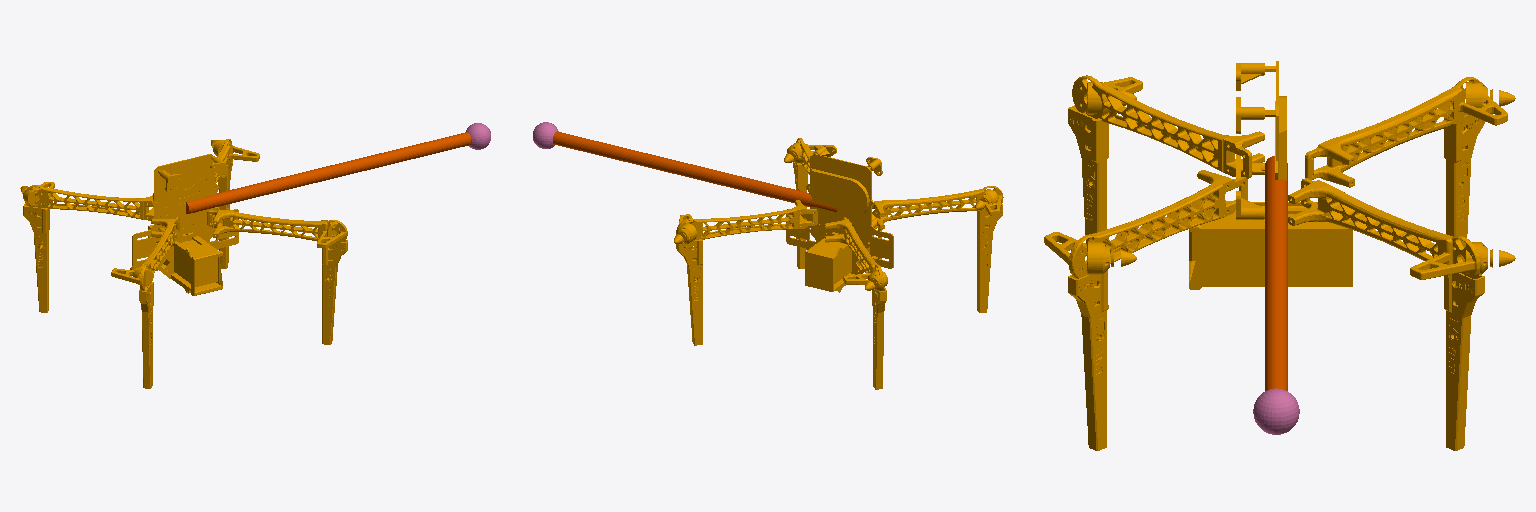
The robot description file, URDF, robot "f450":
<?xml version="1.0" ?>
<robot name="f450">
  <joint name="prop_0_joint" type="continuous">
    <parent link="base_link"/>
    <child link="prop_0_link"/>
    <origin xyz="0.16263 -0.16263 0.0115" rpy="0 0 0"/>
    <axis xyz="0 0 1"/>
    <limit effort="523.6" velocity="523.6"/>
  </joint>
  <joint name="prop_1_joint" type="continuous">
    <parent link="base_link"/>
    <child link="prop_1_link"/>
    <origin xyz="-0.16263 0.16263 0.0115" rpy="0 0 0"/>
    <axis xyz="0 0 1"/>
    <limit effort="523.6" velocity="523.6"/>
  </joint>
  <joint name="prop_2_joint" type="continuous">
    <parent link="base_link"/>
    <child link="prop_2_link"/>
    <origin xyz="0.16263 0.16263 0.0115" rpy="0 0 0"/>
    <axis xyz="0 0 1"/>
    <limit effort="523.6" velocity="523.6"/>
  </joint>
  <joint name="prop_3_joint" type="continuous">
    <parent link="base_link"/>
    <child link="prop_3_link"/>
    <origin xyz="-0.16263 -0.16263 0.0115" rpy="0 0 0"/>
    <axis xyz="0 0 1"/>
    <limit effort="523.6" velocity="523.6"/>
  </joint>
	 <joint name="base_to_stick" type="fixed">
       <parent link="base_link"/>
       <child link="stick"/>
     </joint>
     <joint name="stick_to_sphere" type="fixed">
       <parent link="stick"/>
       <child link="sphere"/>
     </joint>
  <link name="base_link">
    <inertial>
      <mass value="1.7"/>
      <origin xyz="0 0 0" rpy="0 0 0"/>
      <inertia ixx="0.01735416666666667" ixy="0" ixz="0" iyy="0.01735416666666667" iyz="0" izz="0.034"/>
    </inertial>
    <collision name="base_link_collision">
      <origin xyz="0    0   -0.05" rpy="0 0 0"/>
      <geometry>
        <cylinder radius="0.2" length="0.1"/>
      </geometry>
    </collision>
    <collision name="front_right_leg_link_collision">
      <origin xyz="0.15754 -0.15754 -0.11" rpy="0      0      2.35619"/>
      <geometry>
        <cylinder radius="0.012" length="0.17"/>
      </geometry>
    </collision>
    <collision name="front_left_leg_link_collision">
      <origin xyz="0.15754  0.15754 -0.11" rpy="0       0      -2.35619"/>
      <geometry>
        <cylinder radius="0.012" length="0.17"/>
      </geometry>
    </collision>
    <collision name="back_right_leg_link_collision">
      <origin xyz="-0.15754 -0.15754 -0.11" rpy="0      0      0.78539"/>
      <geometry>
        <cylinder radius="0.012" length="0.17"/>
      </geometry>
    </collision>
    <collision name="back_left_leg_link_collision">
      <origin xyz="-0.15754  0.15754 -0.11" rpy="0       0      -0.78539"/>
      <geometry>
        <cylinder radius="0.012" length="0.17"/>
      </geometry>
    </collision>
    <visual name="lower_central_board_visual">
      <origin xyz="0    0   -0.05" rpy="0 0 0"/>
      <geometry>
        <mesh filename="../meshes/dji/f450/dji_f450_central_bottom.obj" scale="0.001 0.001 0.001"/>
      </geometry>
    </visual>
    <visual name="upper_central_board_visual">
      <origin xyz="0     0    -0.012" rpy="0 0 0"/>
      <geometry>
        <mesh filename="../meshes/dji/f450/dji_f450_central_top.obj" scale="0.001 0.001 0.001"/>
      </geometry>
    </visual>
    <visual name="front_right_arm_visual">
      <origin xyz="0.04596 -0.04596 -0.012" rpy="0       0      -0.78539"/>
      <geometry>
        <mesh filename="../meshes/dji/f450/dji_f450_arm.obj" scale="0.001 0.001 0.001"/>
      </geometry>
    </visual>
    <visual name="front_left_arm_visual">
      <origin xyz="0.04596  0.04596 -0.012" rpy="0      0      0.78539"/>
      <geometry>
        <mesh filename="../meshes/dji/f450/dji_f450_arm.obj" scale="0.001 0.001 0.001"/>
      </geometry>
    </visual>
    <visual name="back_right_arm_visual">
      <origin xyz="-0.04596 -0.04596 -0.012" rpy="0       0      -2.35619"/>
      <geometry>
        <mesh filename="../meshes/dji/f450/dji_f450_arm.obj" scale="0.001 0.001 0.001"/>
      </geometry>
    </visual>
    <visual name="back_left_arm_visual">
      <origin xyz="-0.04596  0.04596 -0.012" rpy="0      0      2.35619"/>
      <geometry>
        <mesh filename="../meshes/dji/f450/dji_f450_arm.obj" scale="0.001 0.001 0.001"/>
      </geometry>
    </visual>
    <visual name="NUC_visual">
      <origin xyz="0    0    0.023" rpy="0 0 0"/>
      <geometry>
        <mesh filename="../meshes/dji/f450/dji_f450_nuc.obj" scale="0.001 0.001 0.001"/>
      </geometry>
    </visual>
    <visual name="front_right_leg_visual">
      <origin xyz="0.15754 -0.15754 -0.11" rpy="1.57      0      2.35619"/>
      <geometry>
        <mesh filename="../meshes/dji/f450/dji_f450_leg_170mm.obj" scale="0.001 0.001 0.001"/>
      </geometry>
    </visual>
    <visual name="front_left_leg_visual">
      <origin xyz="0.15754  0.15754 -0.11" rpy="1.57       0      -2.35619"/>
      <geometry>
        <mesh filename="../meshes/dji/f450/dji_f450_leg_170mm.obj" scale="0.001 0.001 0.001"/>
      </geometry>
    </visual>
    <visual name="back_right_leg_visual">
      <origin xyz="-0.15754 -0.15754 -0.11" rpy="1.57      0      0.78539"/>
      <geometry>
        <mesh filename="../meshes/dji/f450/dji_f450_leg_170mm.obj" scale="0.001 0.001 0.001"/>
      </geometry>
    </visual>
    <visual name="back_left_leg_visual">
      <origin xyz="-0.15754  0.15754 -0.11" rpy="1.57       0      -0.78539"/>
      <geometry>
        <mesh filename="../meshes/dji/f450/dji_f450_leg_170mm.obj" scale="0.001 0.001 0.001"/>
      </geometry>
    </visual>
    <visual name="front_right_motor_visual">
      <origin xyz="0.16263 -0.16263 -0.012" rpy="0 0 0"/>
      <geometry>
        <mesh filename="../meshes/dji/f450/dji_f450_rotor.obj" scale="1 1 1"/>
      </geometry>
    </visual>
    <visual name="front_left_motor_visual">
      <origin xyz="0.16263  0.16263 -0.012" rpy="0 0 0"/>
      <geometry>
        <mesh filename="../meshes/dji/f450/dji_f450_rotor.obj" scale="1 1 1"/>
      </geometry>
    </visual>
    <visual name="back_right_motor_visual">
      <origin xyz="-0.16263 -0.16263 -0.012" rpy="0 0 0"/>
      <geometry>
        <mesh filename="../meshes/dji/f450/dji_f450_rotor.obj" scale="1 1 1"/>
      </geometry>
    </visual>
    <visual name="back_left_motor_visual">
      <origin xyz="-0.16263  0.16263 -0.012" rpy="0 0 0"/>
      <geometry>
        <mesh filename="../meshes/dji/f450/dji_f450_rotor.obj" scale="1 1 1"/>
      </geometry>
    </visual>
    <visual name="battery_mount_visual">
      <origin xyz="0     0    -0.078" rpy="0      0      1.57079"/>
      <geometry>
        <mesh filename="../meshes/dji/f450/dji_f450_battery_mount.obj" scale="0.001 0.001 0.001"/>
      </geometry>
    </visual>
    <visual name="battery_visual">
      <origin xyz="0     0    -0.077" rpy="0      0      1.57079"/>
      <geometry>
        <box size="0.13 0.042 0.044"/>
      </geometry>
    </visual>
  </link>
  <link name="prop_0_link">
    <inertial>
      <mass value="0.005"/>
      <origin xyz="0 0 0" rpy="0 0 0"/>
      <inertia ixx="0.0001" ixy="0" ixz="0" iyy="0.0001" iyz="0" izz="0.0001"/>
    </inertial>
    <collision name="prop_0_link_collision">
      <origin xyz="0 0 0" rpy="3.14159 1.57079 3.14159"/>
      <geometry>
        <cylinder radius="0.01" length="0.236"/>
      </geometry>
    </collision>
    <visual name="visual">
      <origin xyz="0 0 0" rpy="0 0 0"/>
      <geometry>
        <mesh filename="../meshes/dji/f450/dji_f450_prop.obj"/>
      </geometry>
    </visual>
  </link>
  <link name="prop_1_link">
    <inertial>
      <mass value="0.005"/>
      <origin xyz="0 0 0" rpy="0 0 0"/>
      <inertia ixx="0.0001" ixy="0" ixz="0" iyy="0.0001" iyz="0" izz="0.0001"/>
    </inertial>
    <collision name="prop_1_link_collision">
      <origin xyz="0 0 0" rpy="3.14159 1.57079 3.14159"/>
      <geometry>
        <cylinder radius="0.01" length="0.236"/>
      </geometry>
    </collision>
    <visual name="visual">
      <origin xyz="0 0 0" rpy="0 0 0"/>
      <geometry>
        <mesh filename="../meshes/dji/f450/dji_f450_prop.obj"/>
      </geometry>
    </visual>
  </link>
  <link name="prop_2_link">
    <inertial>
      <mass value="0.005"/>
      <origin xyz="0 0 0" rpy="0 0 0"/>
      <inertia ixx="0.0001" ixy="0" ixz="0" iyy="0.0001" iyz="0" izz="0.0001"/>
    </inertial>
    <collision name="prop_2_link_collision">
      <origin xyz="0 0 0" rpy="3.14159 1.57079 3.14159"/>
      <geometry>
        <cylinder radius="0.01" length="0.236"/>
      </geometry>
    </collision>
    <visual name="visual">
      <origin xyz="0 0 0" rpy="0 0 0"/>
      <geometry>
        <mesh filename="../meshes/dji/f450/dji_f450_prop.obj"/>
      </geometry>
    </visual>
  </link>
  <link name="prop_3_link">
    <inertial>
      <mass value="0.005"/>
      <origin xyz="0 0 0" rpy="0 0 0"/>
      <inertia ixx="0.0001" ixy="0" ixz="0" iyy="0.0001" iyz="0" izz="0.0001"/>
    </inertial>
    <collision name="prop_3_link_collision">
      <origin xyz="0 0 0" rpy="3.14159 1.57079 3.14159"/>
      <geometry>
        <cylinder radius="0.01" length="0.236"/>
      </geometry>
    </collision>
    <visual name="visual">
      <origin xyz="0 0 0" rpy="0 0 0"/>
      <geometry>
        <mesh filename="../meshes/dji/f450/dji_f450_prop.obj"/>
      </geometry>
    </visual>
  </link>
   

<link name="stick">
	<visual>
		<origin xyz="0.25 0 0" rpy="0 1.57 0" />
		<geometry>
			<cylinder length="0.5" radius="0.01"/>
		</geometry>
	</visual>
	<collision>
		<origin xyz="0.25 0 0" rpy="0 1.57 0" />
		<geometry>
			<cylinder length="0.5" radius="0.01"/>
		</geometry>
	</collision>
	<inertial>
		<mass value="0.1"/>
		<inertia ixx="1.0" ixy="0.0" ixz="0.0" iyy="1.0" iyz="0.0" izz="1.0"/>
	</inertial>
   </link>
	<link name="sphere">
		<visual>
			<origin xyz="0.5 0 0" rpy="0 0 0" />
			<geometry>
				<sphere radius="0.02"/>
			</geometry>
		</visual>
		<collision>
			<origin xyz="0.5 0 0" rpy="0 0 0" />
			<geometry>
				<sphere radius="0.02"/>
			</geometry>
		</collision>
		<inertial>
			<mass value="0.2"/>
			<inertia ixx="1.0" ixy="0.0" ixz="0.0" iyy="1.0" iyz="0.0" izz="1.0"/>
		</inertial>
	</link>


</robot>

--- Facts derived from the render (not from the file) ---
The picture shows the robot from 3 angles, left to right: view 1: azimuth 30°, elevation 25°; view 2: azimuth 150°, elevation 25°; view 3: azimuth 270°, elevation 25°; orthographic projection.
Robot: f450 — 7 links, 6 joints (4 continuous, 2 fixed); root link base_link; default pose: all joints at 0.
Links seen in each view (by area): view 1: base_link, stick; view 2: base_link, stick; view 3: base_link, stick, sphere.
Link boxes in pixels (<box>): base_link: <box>20,139,347,388</box>; stick: <box>186,132,470,213</box>; base_link: <box>674,138,1003,389</box>; stick: <box>553,131,836,211</box>; base_link: <box>1044,61,1515,450</box>; stick: <box>1265,156,1287,390</box>; sphere: <box>1253,388,1299,434</box>.
Bounding box of the posed robot: 0.7194 × 0.4048 × 0.2736 m (x, y, z).
16 mesh visuals loaded from 8 distinct referenced files (7 OBJ); not drawn: 4 (reference not matched to a file when rendering).